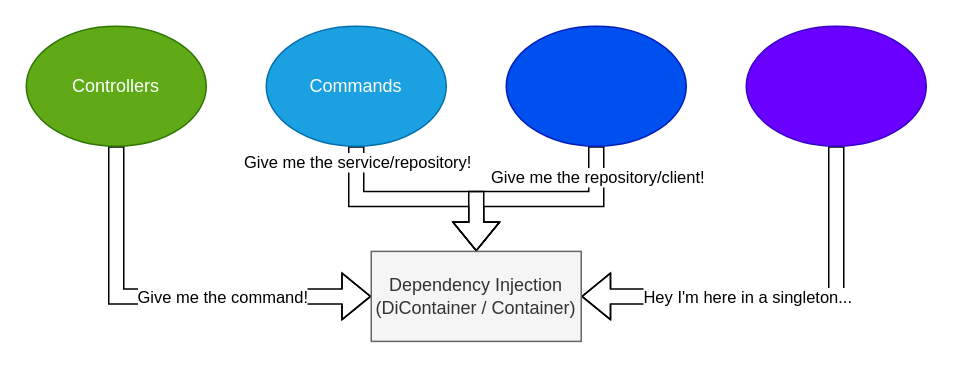
This 953x369 diagram has some shape labels left out. Here are the shapes that lost their labels. From the top down, the box of each, then its label:
(505, 25, 686, 146): Services (maybe)
(745, 25, 926, 146): Repositories
